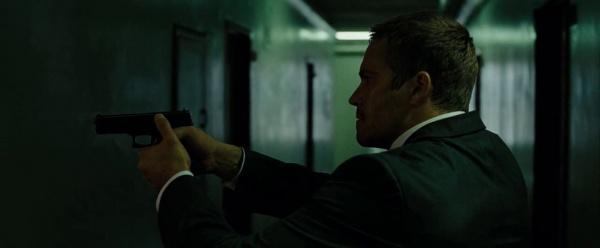Gun: (93, 110, 196, 149)
